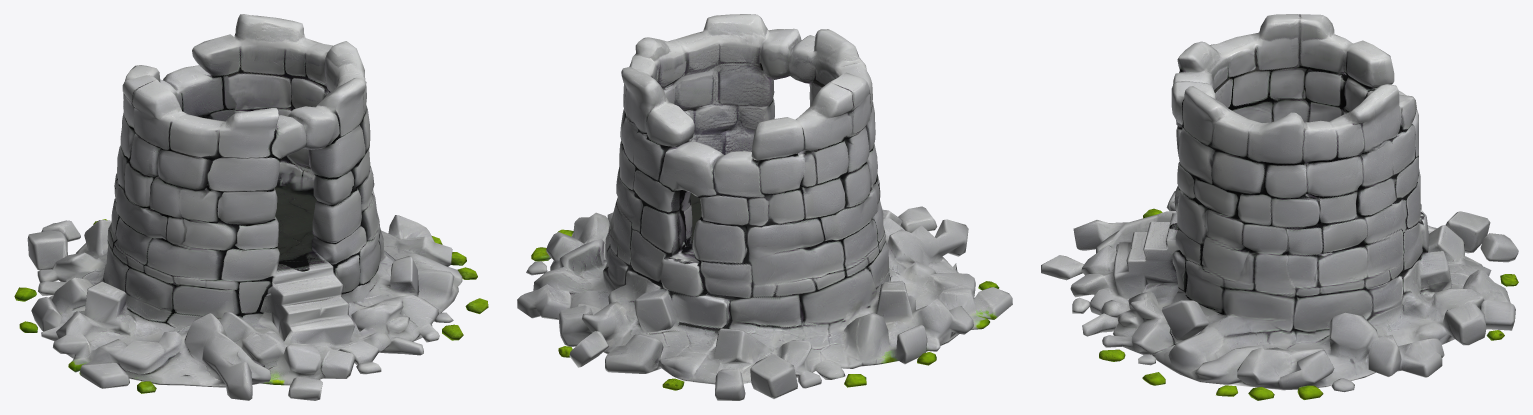
File: valley_watch_ruin.glb
The picture shows the model from 3 angles, left to right: view 1: azimuth 30°, elevation 25°; view 2: azimuth 150°, elevation 25°; view 3: azimuth 270°, elevation 25°; orthographic projection.
Bounding box in the file's own units: 1.91 × 1.06 × 1.91.
1 material, 1 textured.
